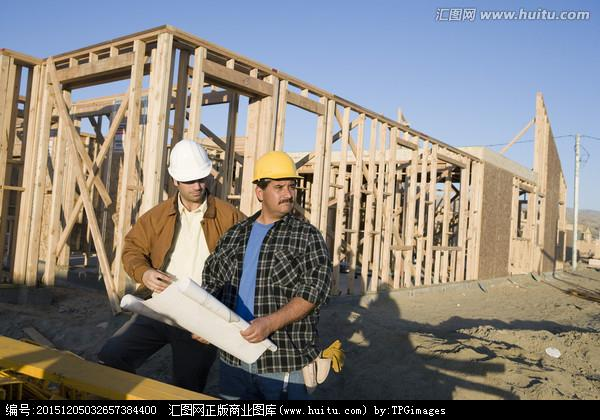helmet: (169, 140, 218, 183), (252, 151, 306, 187)
